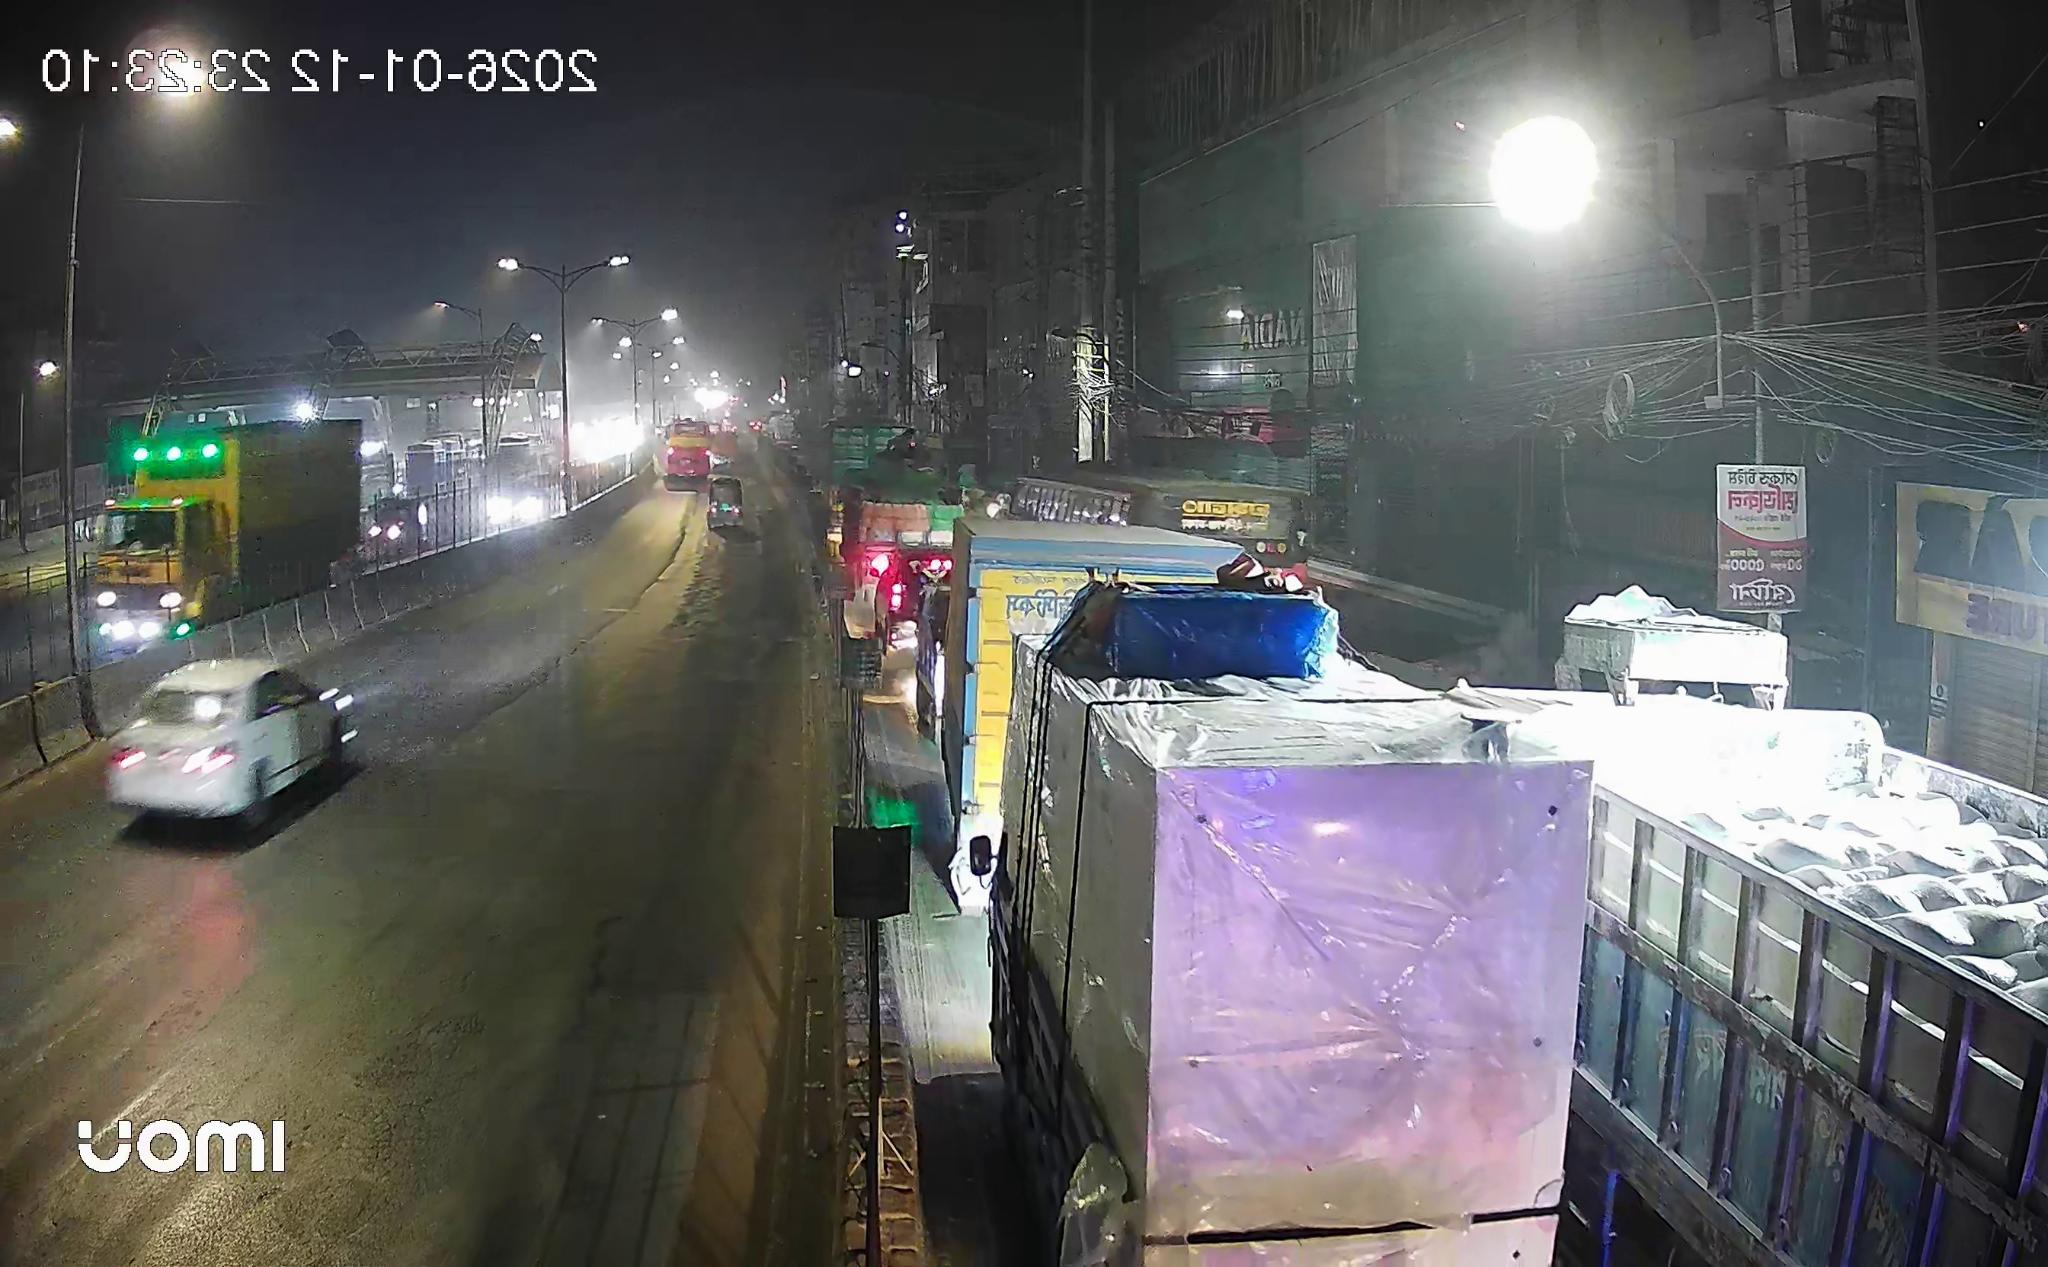CNG-Tempo: (705, 475, 743, 531)
Private-Sedan Car: (108, 658, 360, 822)
Truck: (976, 584, 1660, 1267), (1453, 588, 2048, 1267), (917, 515, 1236, 907), (88, 418, 367, 650)
